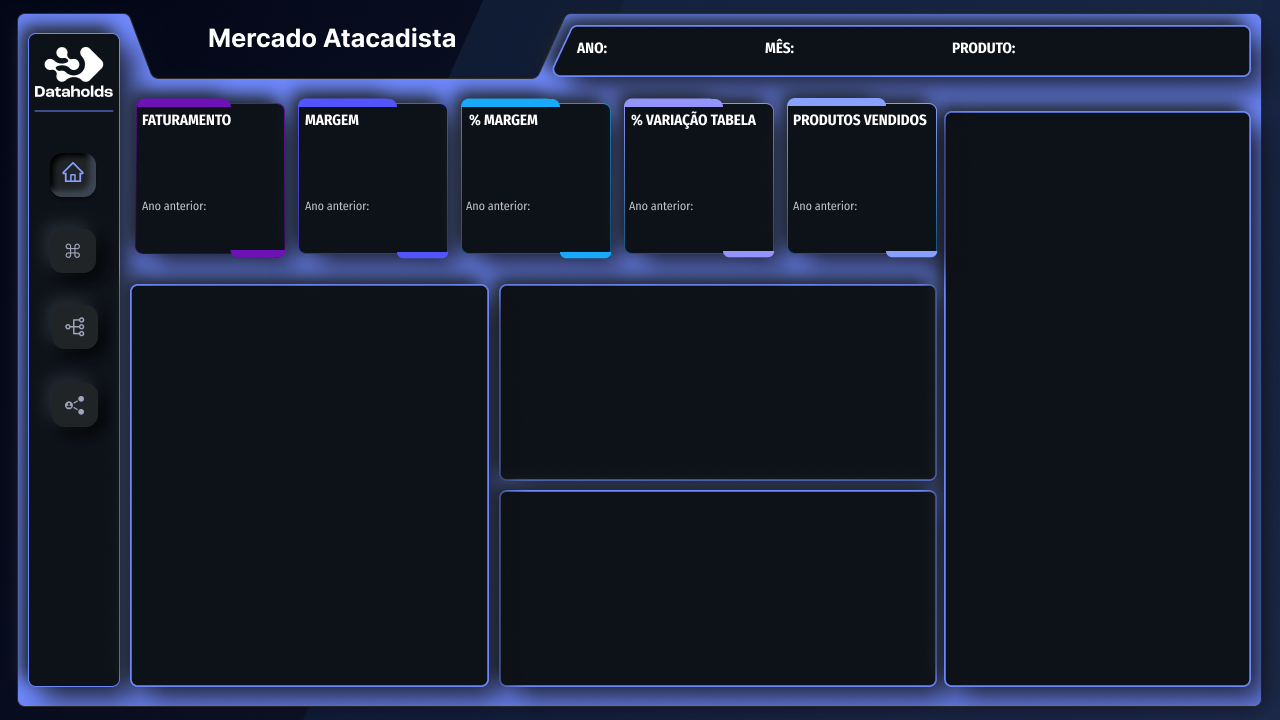

The page's visual inventory and layout, read from the dashboard file:
{"tool":"powerbi","page":{"name":"Overview","canvas":[1280,720],"ordinal":0},"visuals":[{"type":"slicer","fields":{"Values":["dCalendario.Mês Nome"]},"box":[790.9,23.1,158.7,47],"z":0},{"type":"slicer","fields":{"Values":["dCalendario.Ano"]},"box":[603.8,23.1,162.3,47],"z":1000},{"type":"clusteredBarChart","title":"Preço por Produto ","fields":{"Y":["Avg(fVendas.valor_tabela_de_preco_do_produto)","Avg(fVendas.valor_unitario_produto)","Medidas.Preço Mínimo"],"Category":["fVendas.descricao_produto"]},"box":[949.7,117.9,298.8,568.4],"z":2000},{"type":"card","fields":{"Values":["Medidas.Faturamento"]},"box":[135.7,129.5,150.7,39],"z":3000},{"type":"card","fields":{"Values":["Medidas.Qnt produtos vendidos"]},"box":[788.3,129.5,148.1,39],"z":4000},{"type":"slicer","fields":{"Values":["fVendas.descricao_produto"]},"box":[1015.3,23.1,172.9,47],"z":5000},{"type":"card","fields":{"Values":["Medidas.Margem"]},"box":[299.7,129.5,147.2,39],"z":6000},{"type":"clusteredBarChart","title":"Faturamento & Margem por Cliente","fields":{"Category":["fVendas.descricao_cliente"],"Y":["Medidas.Faturamento Formatado com % GM","Medidas.Margem"]},"box":[133,286.4,350.2,399.9],"z":7000},{"type":"card","fields":{"Values":["Medidas.% Margem média sob fat"]},"box":[459.3,129.5,151.6,39],"z":8000},{"type":"lineChart","title":"Faturamento & Margem por Dia","fields":{"Y":["Medidas.Faturamento","Medidas.Margem"],"Y2":["Medidas.% Margem média"],"Category":["dCalendario.Dia Mês"]},"box":[501,286.4,431.8,190.6],"z":9000},{"type":"card","fields":{"Values":["Medidas.% Variação preço média"]},"box":[621.6,129.5,152.5,39],"z":10000},{"type":"lineChart","title":"Variação de Preço & Custo por Dia","fields":{"Y":["Medidas.Preço Médio Tabela","Medidas.Custo médio"],"Category":["dCalendario.Dia Mês"]},"box":[501,493,435.4,193.3],"z":11000},{"type":"image","box":[848.6,487.7,47,40.8],"z":13000},{"type":"image","box":[892,493.9,34.6,34.6],"z":14000},{"type":"actionButton","box":[853.9,491.2,33.7,37.2],"z":15000},{"type":"actionButton","box":[891.1,491.2,35.5,37.2],"z":16000},{"type":"card","fields":{"Values":["Medidas.Faturamento Ano Anterior"]},"box":[126.8,213.7,159.6,23.9],"z":17000},{"type":"card","fields":{"Values":["Medidas.Margem Ano Anterior"]},"box":[299.7,213.7,144.5,23.9],"z":18000},{"type":"card","fields":{"Values":["Medidas.% Margem Ano Anterior"]},"box":[459.3,213.7,144.5,23.9],"z":19000},{"type":"card","fields":{"Values":["Medidas.% Variação tabela Ano Anterior"]},"box":[621.6,213.7,144.5,23.9],"z":20000},{"type":"card","fields":{"Values":["Medidas.Qnt produtos vendidos Ano Anterior"]},"box":[788.3,213.7,144.5,23.9],"z":21000}]}

Visuals, with their boxes in screenshot pixels (x1, y1, x2, y2), scaled from the page's 1280x720 canvas onto the 1280x720 screenshot:
slicer - dCalendario.Mês Nome: [791, 23, 950, 70]
slicer - dCalendario.Ano: [604, 23, 766, 70]
"Preço por Produto " clusteredBarChart: [950, 118, 1248, 686]
card - Medidas.Faturamento: [136, 130, 286, 168]
card - Medidas.Qnt produtos vendidos: [788, 130, 936, 168]
slicer - fVendas.descricao_produto: [1015, 23, 1188, 70]
card - Medidas.Margem: [300, 130, 447, 168]
"Faturamento & Margem por Cliente" clusteredBarChart: [133, 286, 483, 686]
card - Medidas.% Margem média sob fat: [459, 130, 611, 168]
"Faturamento & Margem por Dia" lineChart: [501, 286, 933, 477]
card - Medidas.% Variação preço média: [622, 130, 774, 168]
"Variação de Preço & Custo por Dia" lineChart: [501, 493, 936, 686]
image: [849, 488, 896, 528]
image: [892, 494, 927, 528]
actionButton: [854, 491, 888, 528]
actionButton: [891, 491, 927, 528]
card - Medidas.Faturamento Ano Anterior: [127, 214, 286, 238]
card - Medidas.Margem Ano Anterior: [300, 214, 444, 238]
card - Medidas.% Margem Ano Anterior: [459, 214, 604, 238]
card - Medidas.% Variação tabela Ano Anterior: [622, 214, 766, 238]
card - Medidas.Qnt produtos vendidos Ano Anterior: [788, 214, 933, 238]
